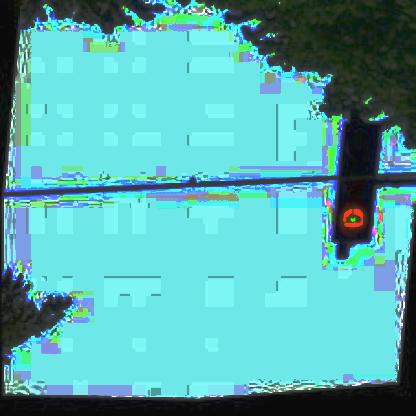Traffic Light -Red-: (331, 126, 380, 252)
